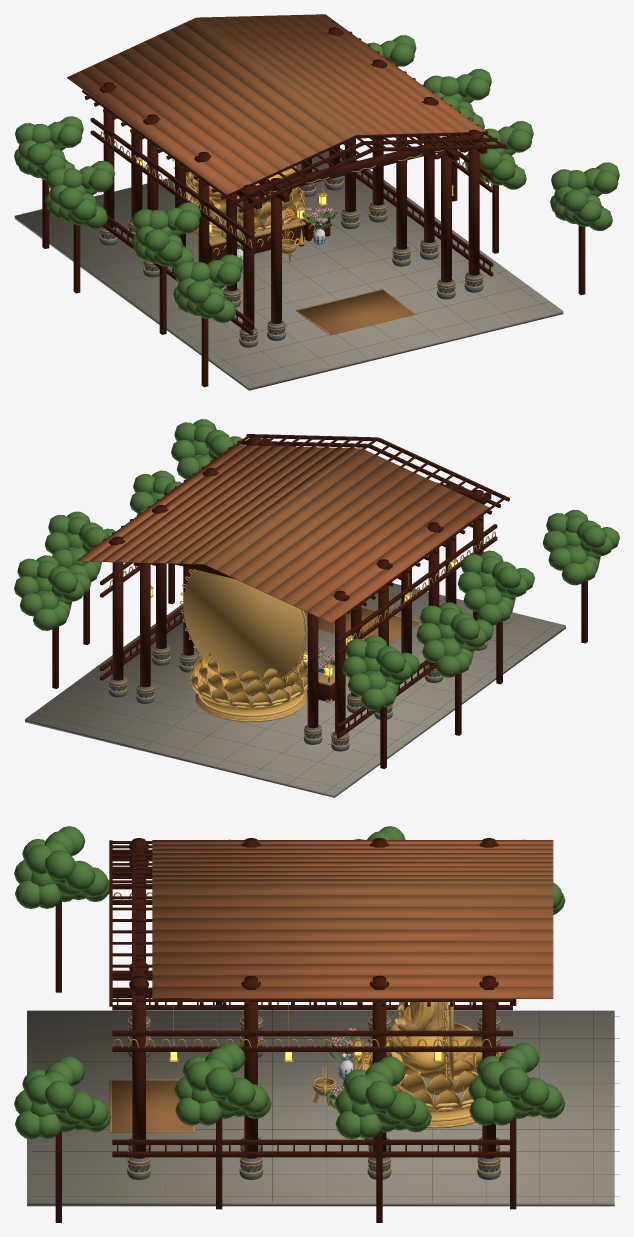
File: sanctuary.glb
The picture shows the model from 3 angles, top to bottom: view 1: azimuth 30°, elevation 25°; view 2: azimuth 150°, elevation 25°; view 3: azimuth 270°, elevation 25°; orthographic projection. The views are drawn at different scales.
Parts seen in each view (by area): view 1: FLOOR__Floor_stone, ARCH__Lacquered_teak, GARDEN__Lotus_foliage, ARCH__Carved_column_bases, GARDEN__Lacquered_teak, DECOR__Woven_ochre_carpet, ARCH__Roof_clay_-19, ARCH__Roof_clay_-12, ARCH__Roof_clay_-13, ARCH__Roof_clay_-11, ARCH__Roof_clay_-14, ARCH__Roof_clay_-16 (+20 smaller); view 2: FLOOR__Floor_stone, GARDEN__Lotus_foliage, ARCH__Lacquered_teak, STATUE__Engraved_mandorla_gold, STATUE__Polished_gold, GARDEN__Lacquered_teak, ARCH__Roof_clay_-19, ARCH__Roof_clay_-13, ARCH__Roof_clay_-10, ARCH__Roof_clay_-11, ARCH__Roof_clay_-12, ARCH__Roof_clay_-14 (+19 smaller); view 3: FLOOR__Floor_stone, GARDEN__Lotus_foliage, ARCH__Lacquered_teak, ARCH__Roof_clay_10, ARCH__Roof_clay_19, ARCH__Roof_clay_11, ARCH__Roof_clay_13, ARCH__Roof_clay_16, ARCH__Roof_clay_12, ARCH__Roof_clay_14, ARCH__Roof_clay_15, ARCH__Roof_clay_17 (+20 smaller).
Part boxes in pixels (<box>): FLOOR__Floor_stone: <box>14,148,563,390</box>; ARCH__Lacquered_teak: <box>82,27,506,334</box>; GARDEN__Lotus_foliage: <box>14,35,619,322</box>; ARCH__Carved_column_bases: <box>99,176,483,347</box>; GARDEN__Lacquered_teak: <box>42,135,585,387</box>; DECOR__Woven_ochre_carpet: <box>296,290,416,335</box>; ARCH__Roof_clay_-19: <box>67,71,239,194</box>; ARCH__Roof_clay_-12: <box>157,30,329,153</box>; ARCH__Roof_clay_-13: <box>144,35,317,159</box>; ARCH__Roof_clay_-11: <box>170,24,342,147</box>; ARCH__Roof_clay_-14: <box>131,41,304,165</box>; ARCH__Roof_clay_-16: <box>106,53,278,176</box>; FLOOR__Floor_stone: <box>25,583,565,797</box>; GARDEN__Lotus_foliage: <box>14,419,619,710</box>; ARCH__Lacquered_teak: <box>94,434,509,738</box>; STATUE__Engraved_mandorla_gold: <box>183,570,304,683</box>; STATUE__Polished_gold: <box>180,569,307,720</box>; GARDEN__Lacquered_teak: <box>52,563,587,768</box>; ARCH__Roof_clay_-19: <box>319,501,489,623</box>; ARCH__Roof_clay_-13: <box>242,466,412,587</box>; ARCH__Roof_clay_-10: <box>204,448,374,570</box>; ARCH__Roof_clay_-11: <box>216,454,386,576</box>; ARCH__Roof_clay_-12: <box>229,460,399,581</box>; ARCH__Roof_clay_-14: <box>255,472,425,593</box>; FLOOR__Floor_stone: <box>27,1010,614,1206</box>; GARDEN__Lotus_foliage: <box>14,826,565,1139</box>; ARCH__Lacquered_teak: <box>109,838,512,1158</box>; ARCH__Roof_clay_10: <box>152,883,553,895</box>; ARCH__Roof_clay_19: <box>152,986,553,998</box>; ARCH__Roof_clay_11: <box>152,895,553,906</box>; ARCH__Roof_clay_13: <box>152,918,553,929</box>; ARCH__Roof_clay_16: <box>152,952,553,963</box>; ARCH__Roof_clay_12: <box>152,906,553,917</box>; ARCH__Roof_clay_14: <box>152,929,553,940</box>; ARCH__Roof_clay_15: <box>152,941,553,952</box>; ARCH__Roof_clay_17: <box>152,964,553,975</box>.
Bounding box in the file's own units: 23.92 × 9.36 × 22.68.
Materials: 39 (1 with a texture image).
